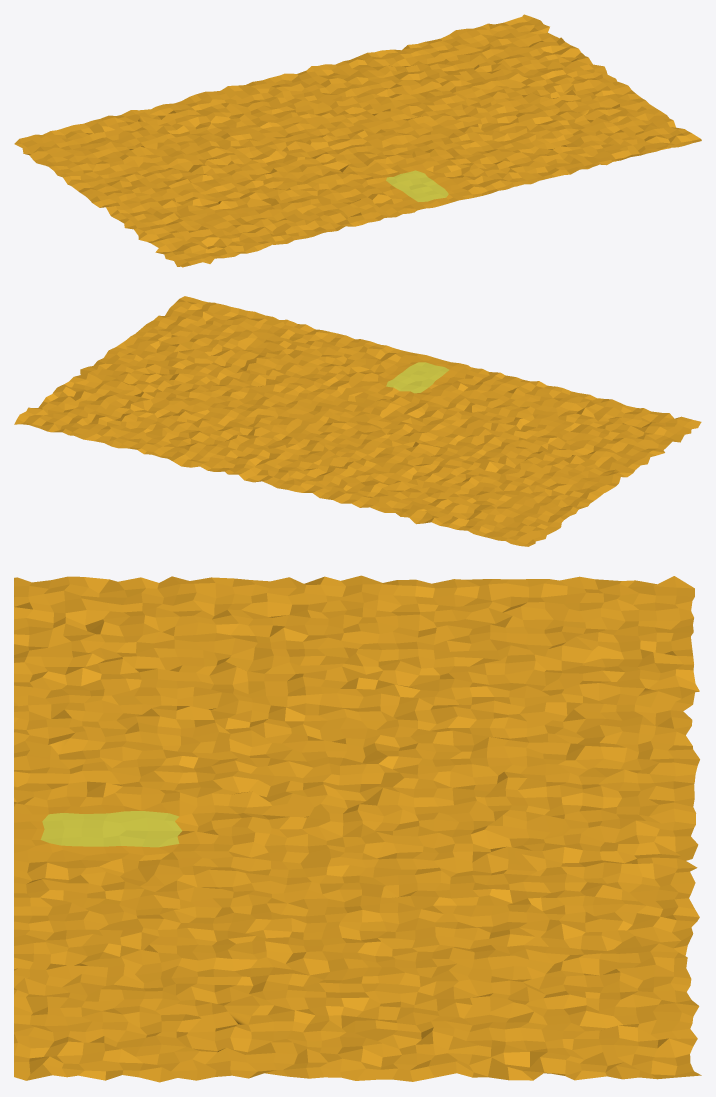
File: Sand_Level_Floor.fbx
3 renders of one model, top to bottom at view 1: azimuth 30°, elevation 25°; view 2: azimuth 150°, elevation 25°; view 3: azimuth 270°, elevation 25°, orthographic. The views are drawn at different scales.
Visible parts, largest first — view 1: Sand_Level_Floor; view 2: Sand_Level_Floor; view 3: Sand_Level_Floor.
Part boxes in pixels (x1,y1,x2,y2): Sand_Level_Floor: [14, 14, 701, 267]; Sand_Level_Floor: [14, 296, 701, 546]; Sand_Level_Floor: [14, 575, 701, 1082].
Size of the model in its own units: 6093 by 79.46 by 3502.
